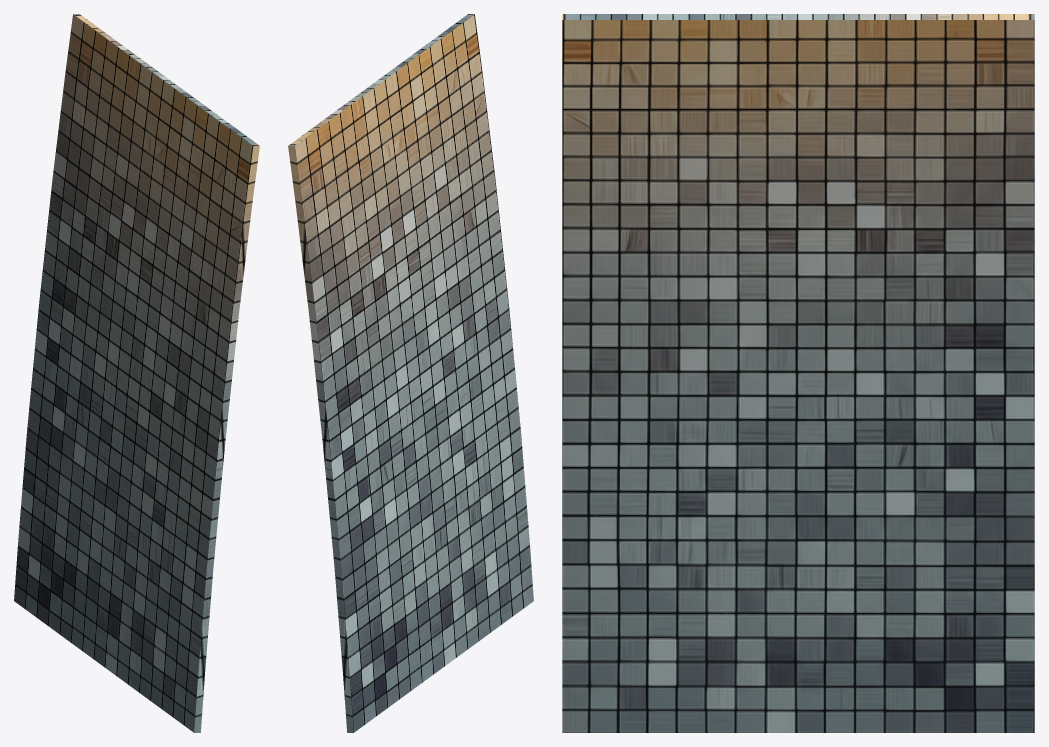
File: back-splash-three.glb
3 renders of one model, left to right at view 1: azimuth 30°, elevation 25°; view 2: azimuth 150°, elevation 25°; view 3: azimuth 270°, elevation 25°, orthographic. The views are drawn at different scales.
Visible parts, largest first — view 1: Cube; view 2: Cube; view 3: Cube.
Boxes of the visible parts, x1,y1,x2,y2 form: Cube: (14, 14, 259, 732); Cube: (288, 14, 533, 732); Cube: (562, 14, 1034, 732).
Bounding box in the file's own units: 0.077 × 0.6427 × 0.3657.
Materials: 1 (1 with a texture image).
